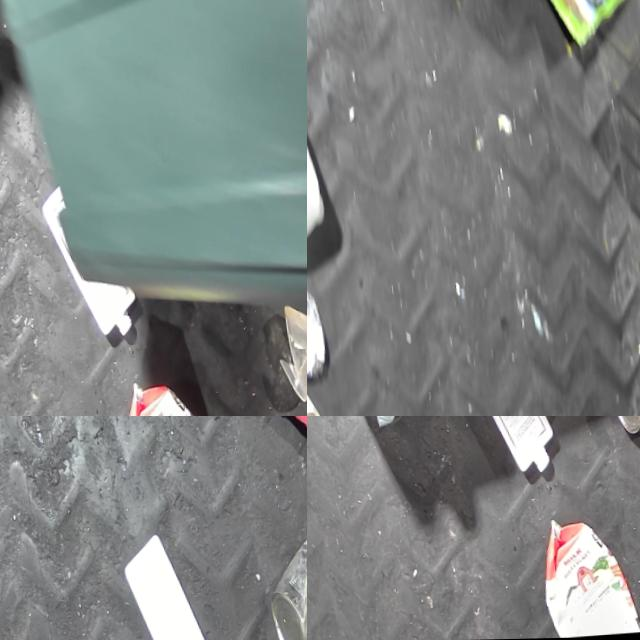can: (253, 538, 307, 640), (307, 249, 323, 383)
milk_jug: (111, 531, 212, 640), (446, 416, 550, 482)
non_white_jug: (520, 512, 634, 640), (102, 374, 217, 416)
